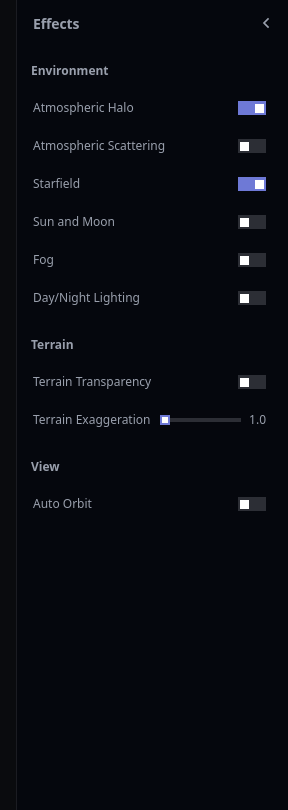
Test: EffectsPanel › 地形透明关闭时透明度滑杆隐藏，开启后显示
The image size is (288, 810).
Click the button named "Terrain Transparency" at (252, 382), box [238, 375, 266, 389]
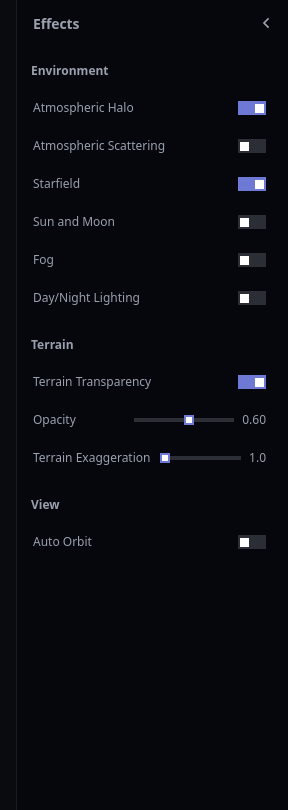
Result: the slider next to "0.60" is shown at [134, 415, 234, 425]
